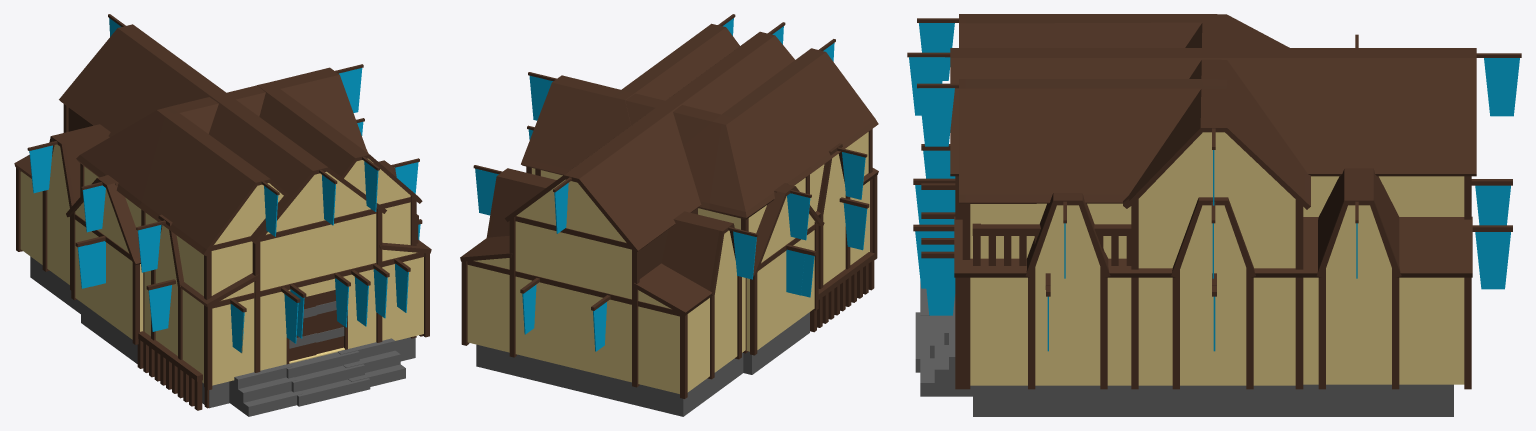
The model's file is Buildings.fbx.
3 renders of one model, left to right at view 1: azimuth 30°, elevation 25°; view 2: azimuth 150°, elevation 25°; view 3: azimuth 270°, elevation 25°, orthographic. The views are drawn at different scales.
Parts seen in each view (by area): view 1: Cathedral, Tavern, School; view 2: Cathedral, Tavern, School; view 3: Cathedral, Tavern, School.
Boxes of the visible parts, left/top/right/bottom form: Cathedral: left=14, top=14, right=431, bottom=408; Tavern: left=76, top=64, right=422, bottom=416; School: left=66, top=82, right=422, bottom=410; Cathedral: left=460, top=22, right=878, bottom=416; Tavern: left=521, top=39, right=878, bottom=353; School: left=535, top=14, right=874, bottom=374; Cathedral: left=907, top=34, right=1521, bottom=416; Tavern: left=917, top=14, right=1310, bottom=416; School: left=917, top=79, right=1267, bottom=396.
Size of the model in its own units: 557 by 408 by 766.
